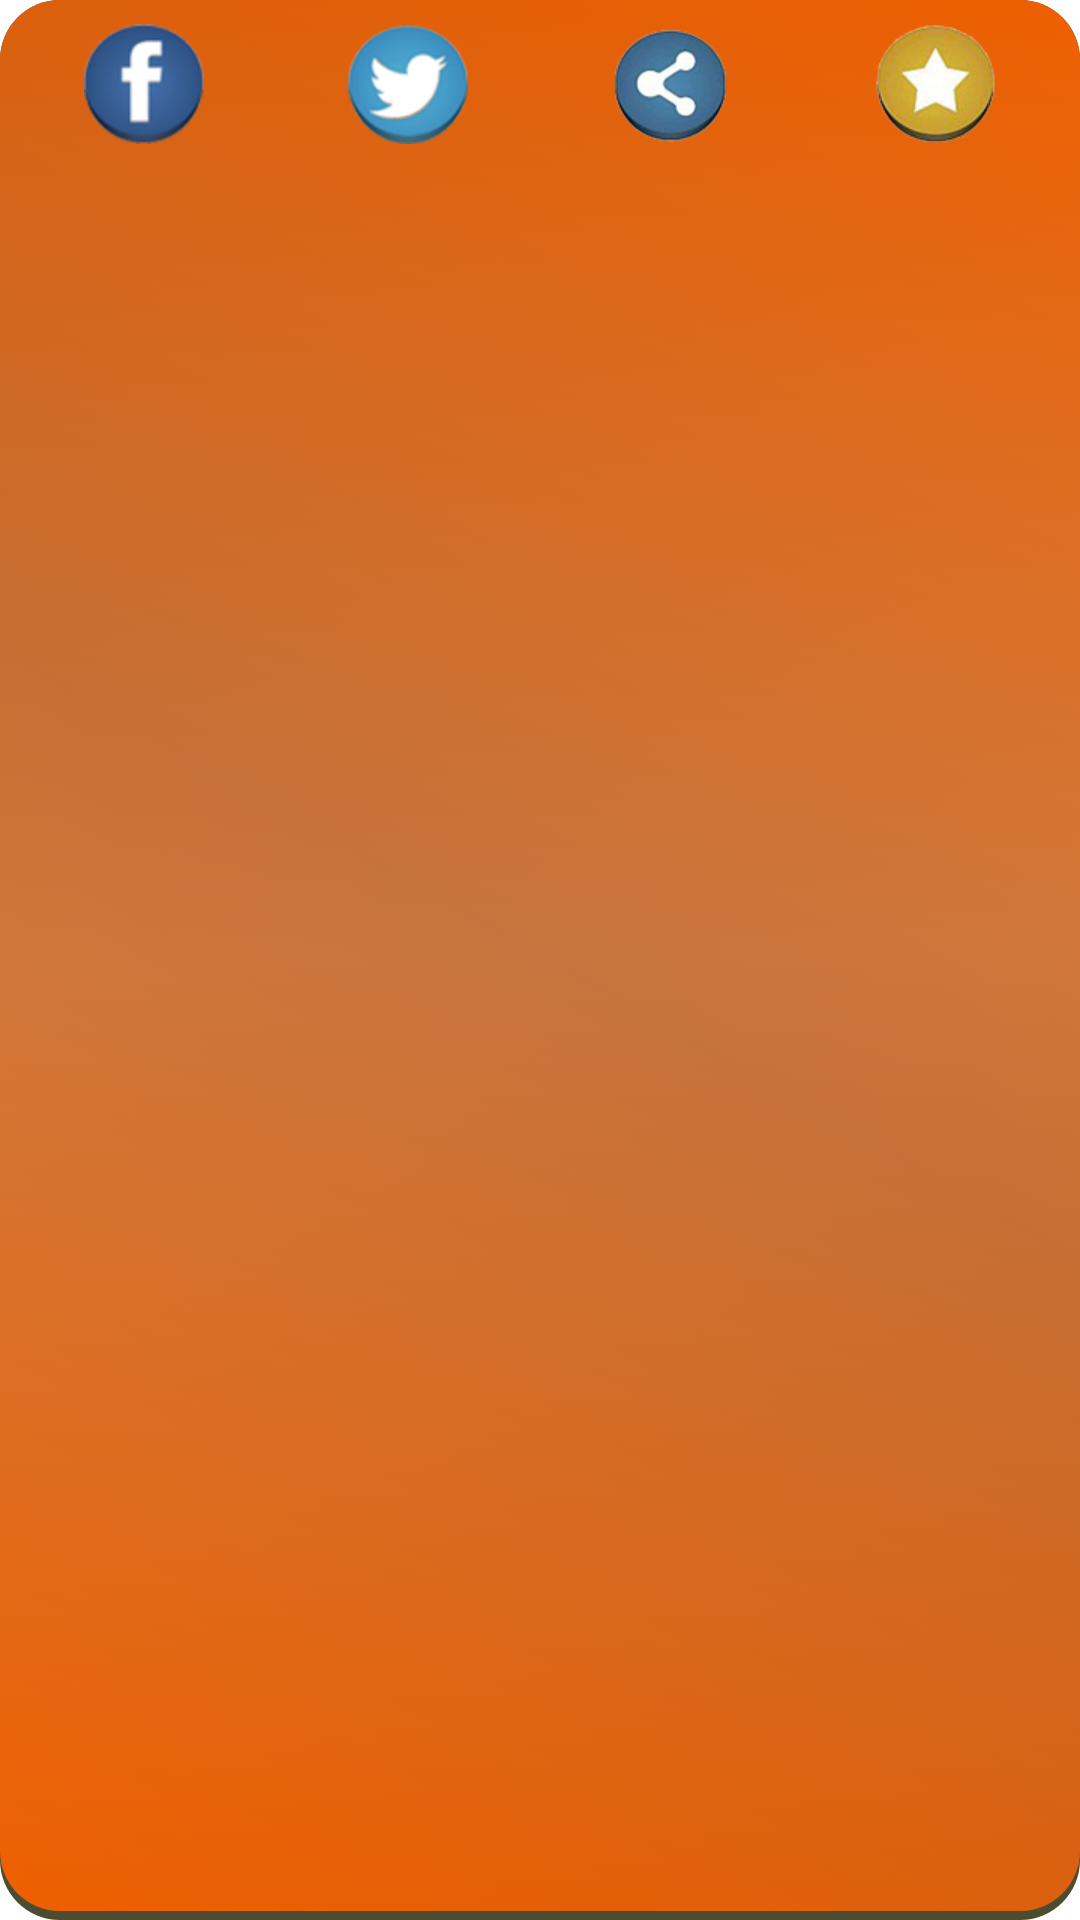

Icons on this 1080px×1920px Android screen, each with the point to tap as [x,y]:
rateus: [935,84]
share: [670,86]
